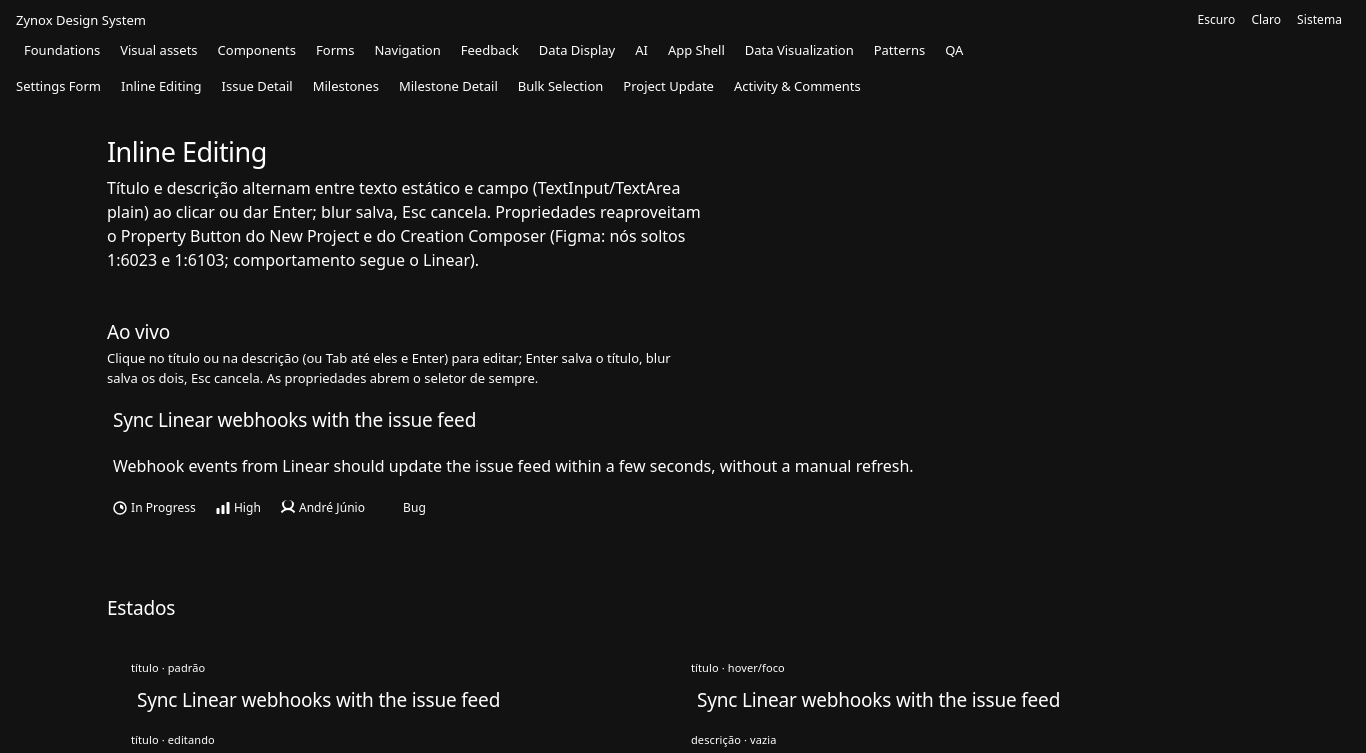
Inline Editing: descrição › blur salva a descrição
The image size is (1366, 753).
Click the button with aria-label "Edit description:": [513, 466] box [113, 455, 914, 477]
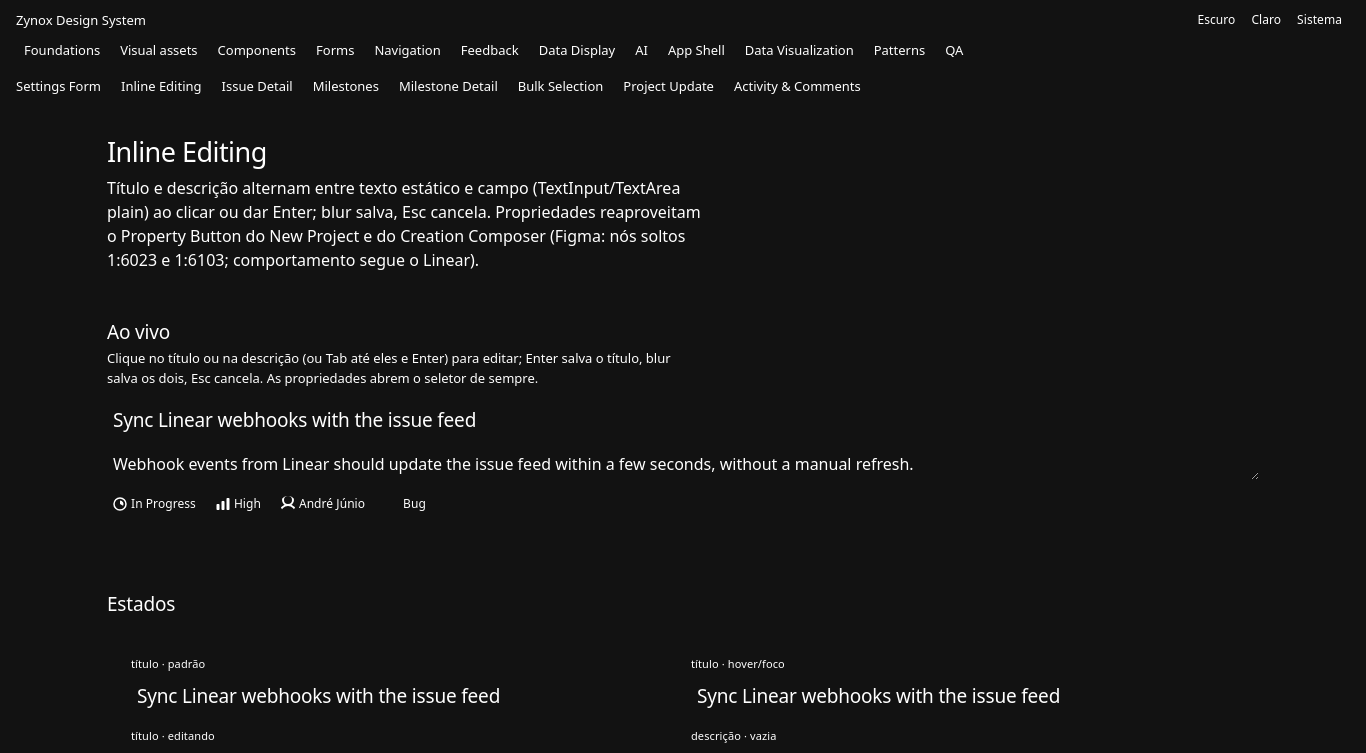
Replace the text in the text box named "description" with "Updated description": [683, 464] box [107, 448, 1259, 480]
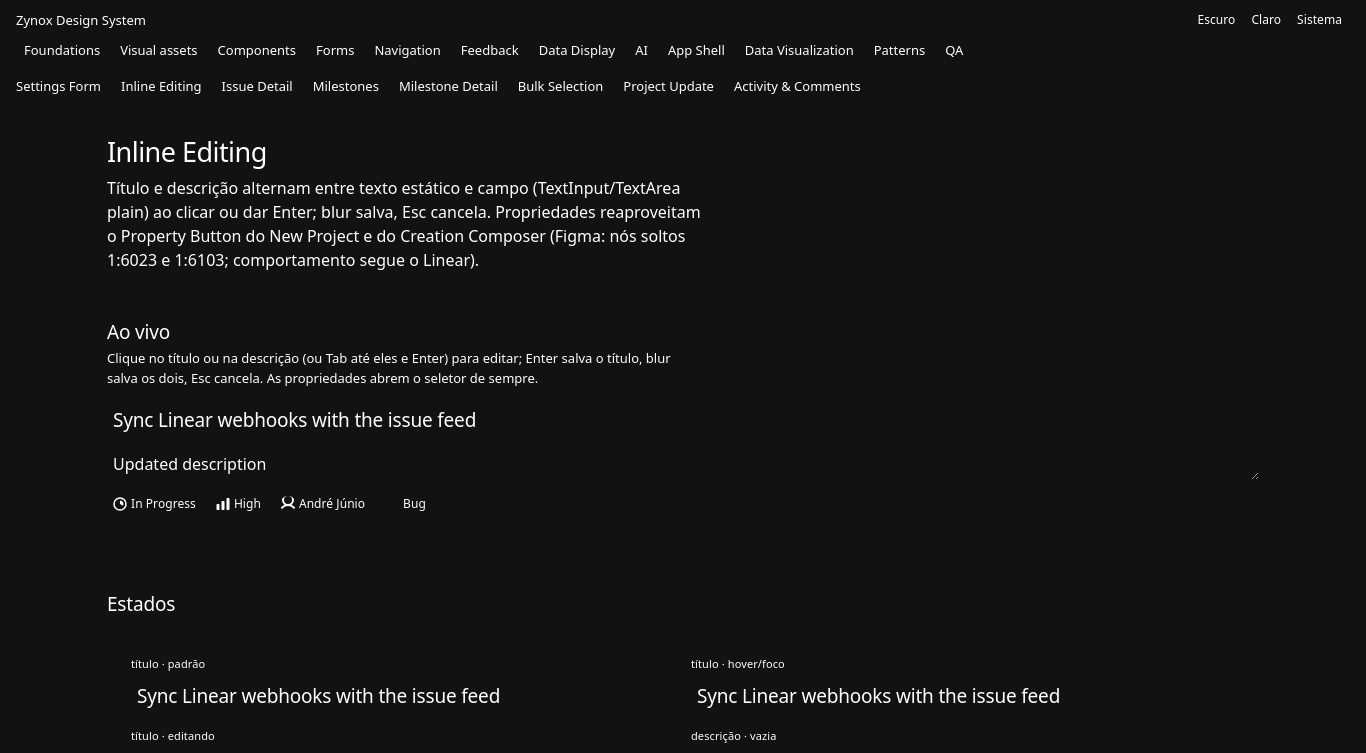
Click the heading "Inline Editing": [187, 152] box [107, 133, 267, 170]
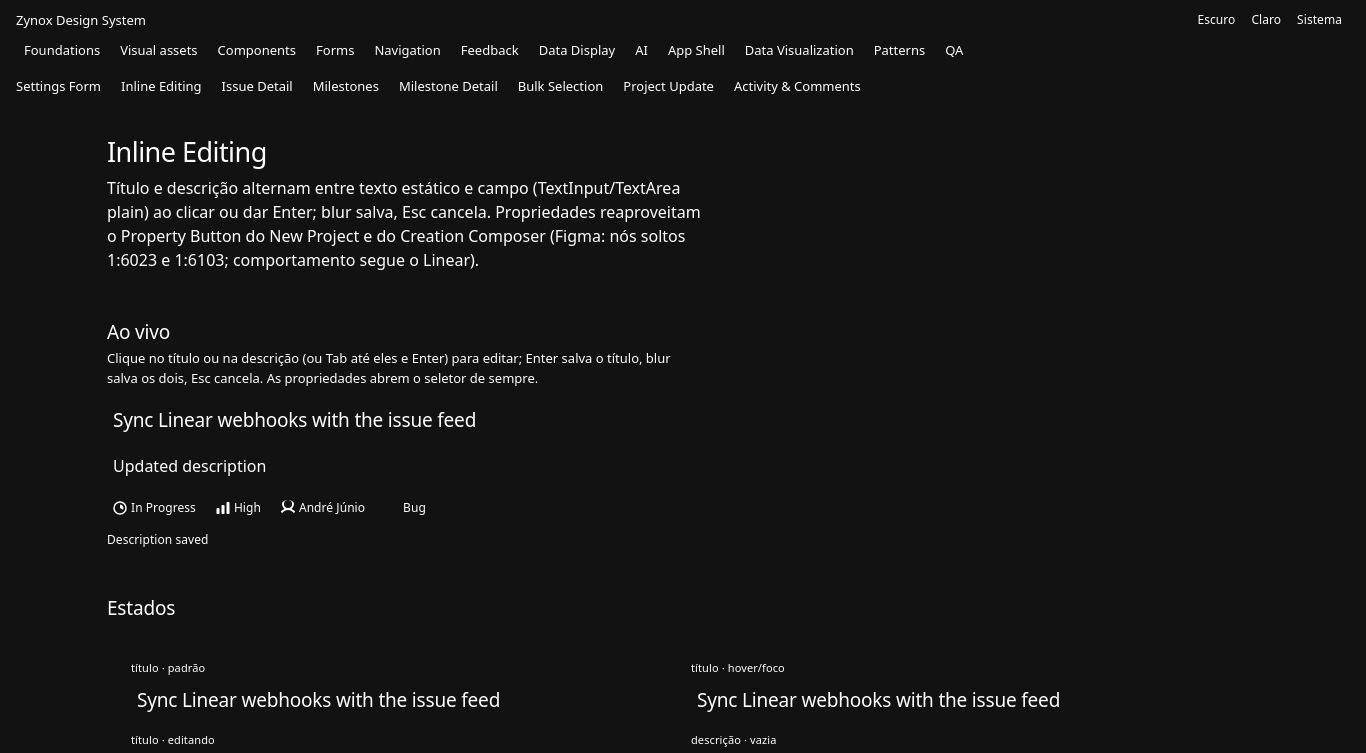
Expected: the button with aria-label "Edit description: Updated description" is shown, [113, 455, 266, 477]
Expected: the text "Description saved" is shown, [107, 531, 208, 548]
